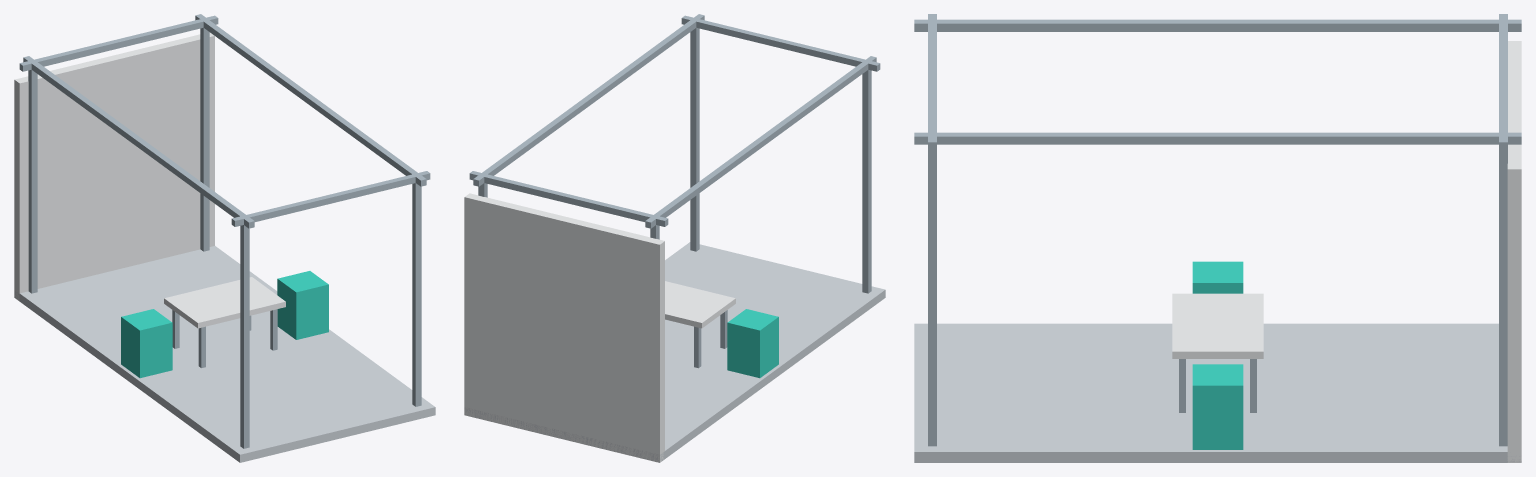
3 renders of one model, left to right at view 1: azimuth 30°, elevation 25°; view 2: azimuth 150°, elevation 25°; view 3: azimuth 270°, elevation 25°, orthographic. The views are drawn at different scales.
Visible parts, largest first — view 1: Exhibition Booth Concept; view 2: Exhibition Booth Concept; view 3: Exhibition Booth Concept.
Part boxes in pixels (left/top/right/bottom): Exhibition Booth Concept: left=14, top=14, right=435, bottom=462; Exhibition Booth Concept: left=464, top=14, right=885, bottom=462; Exhibition Booth Concept: left=914, top=14, right=1521, bottom=462.
Size of the model in its own units: 3 by 3.49 by 6.
